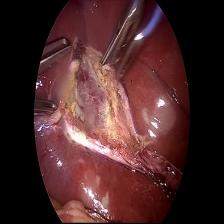Bipolar: (108, 2, 168, 87)
Grasper: (33, 31, 78, 118), (100, 5, 132, 67)
